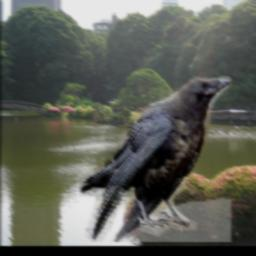Crow: (79, 77, 231, 243)
